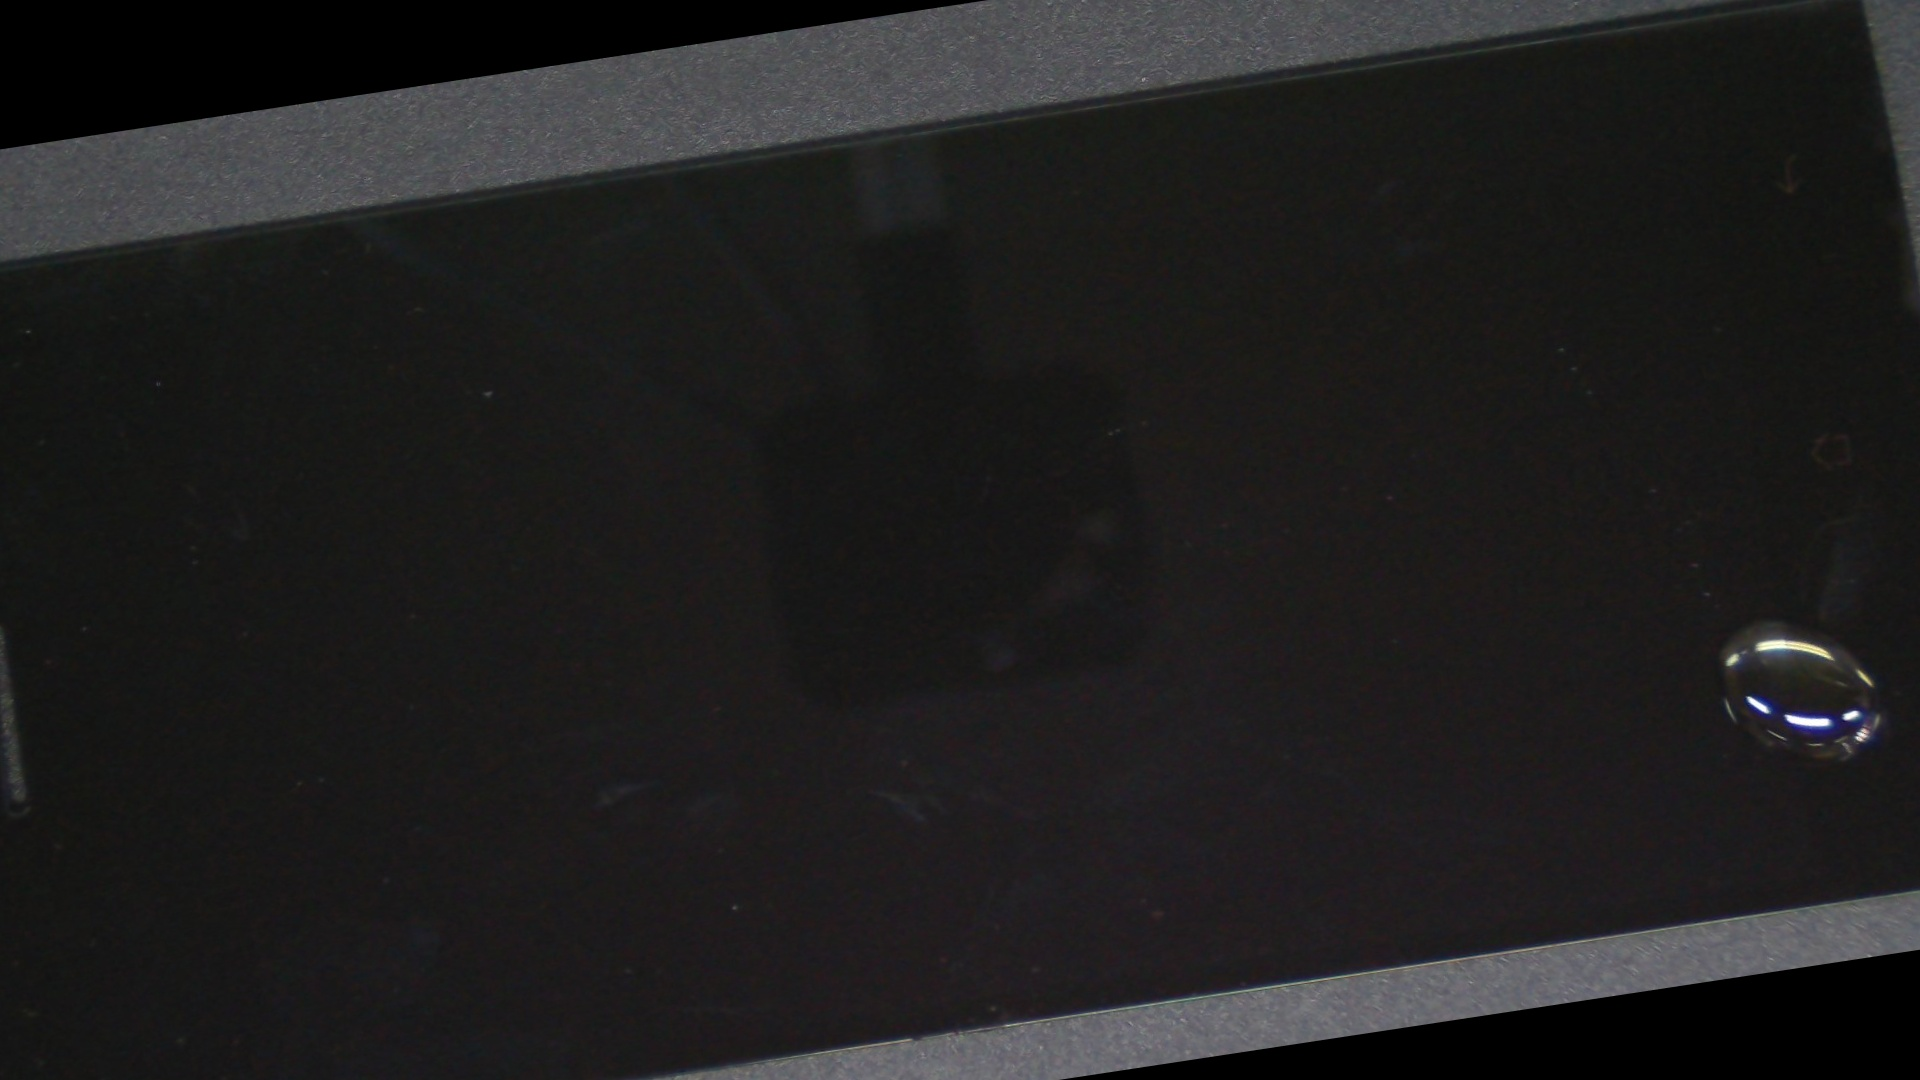oil: (761, 223, 1920, 1080)
